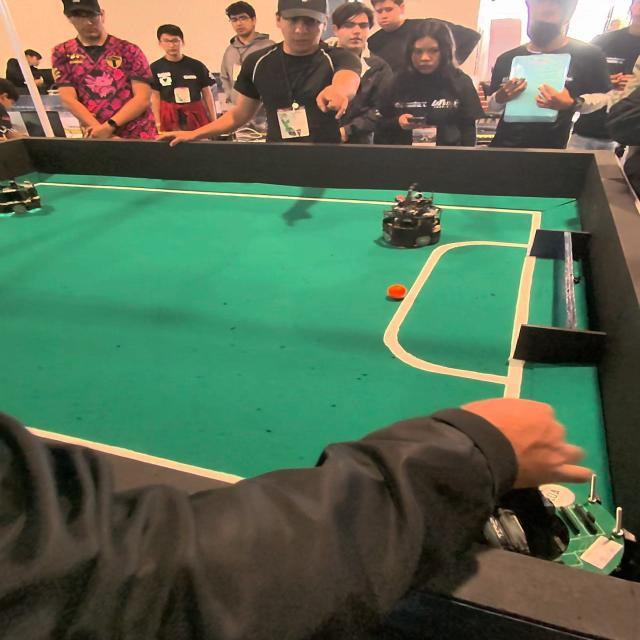Robot: (374, 186, 441, 251), (0, 176, 46, 224)
pelota: (384, 284, 404, 299)
